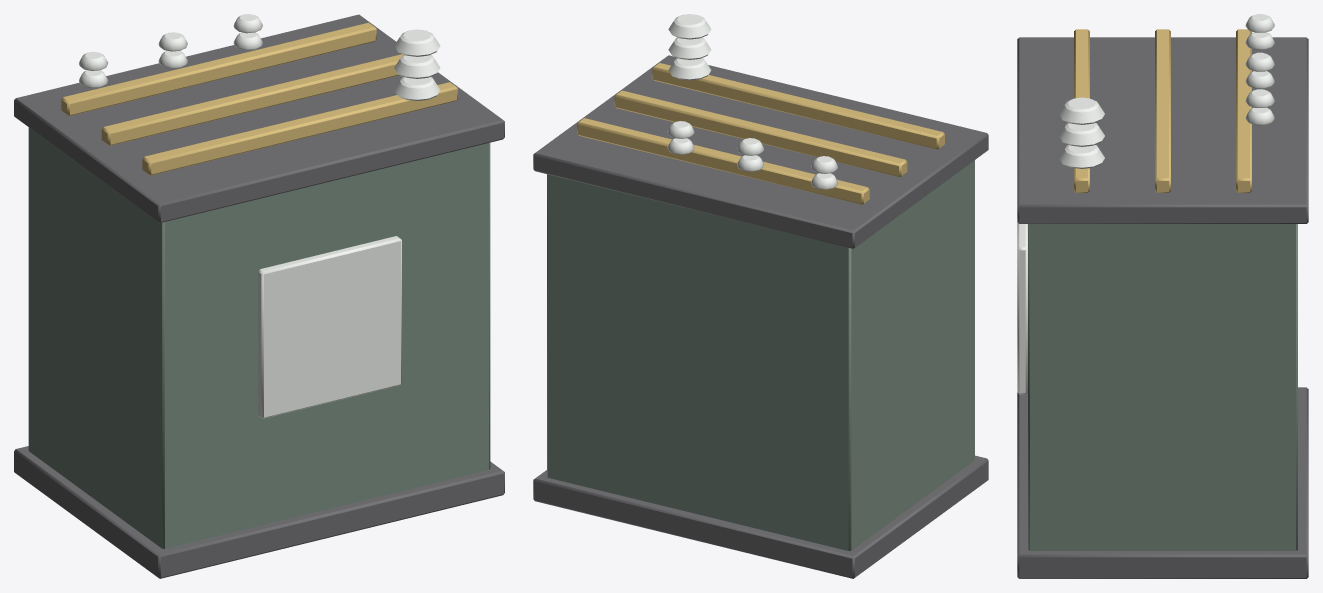
The model's file is feBus.fbx.
3 views of the same model, side by side, from view 1: azimuth 30°, elevation 25°; view 2: azimuth 150°, elevation 25°; view 3: azimuth 270°, elevation 25° (orthographic). The views are drawn at different scales.
Visible parts, largest first — view 1: feBus_Base; view 2: feBus_Base; view 3: feBus_Base.
Part boxes in pixels (box(x1,y1,x2,y2)): feBus_Base: box(14, 14, 504, 578); feBus_Base: box(533, 14, 988, 578); feBus_Base: box(1017, 14, 1308, 578).
Bounding box in the file's own units: 0.74 × 0.9175 × 0.54.
